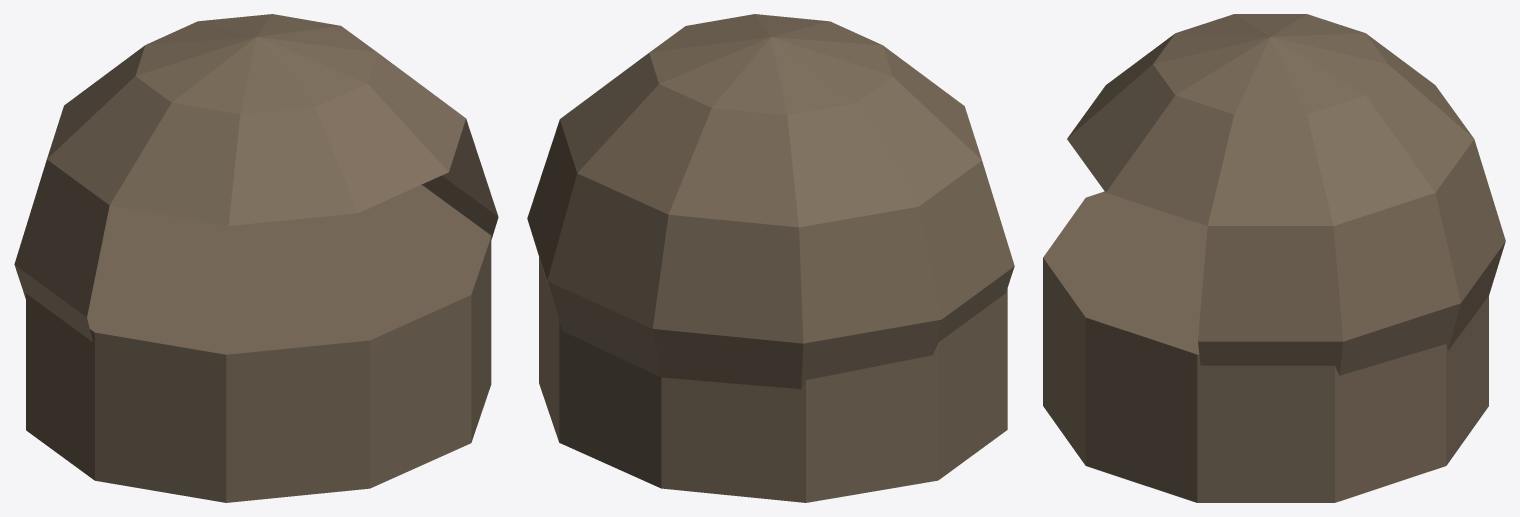
File: bob.glb
3 renders of one model, left to right at view 1: azimuth 30°, elevation 25°; view 2: azimuth 150°, elevation 25°; view 3: azimuth 270°, elevation 25°, orthographic.
Parts seen in each view (by area): view 1: bobring, cap; view 2: cap, bobring; view 3: cap, bobring.
Part boxes in pixels (left/top/right/bottom): bobring: left=26, top=185, right=491, bottom=502; cap: left=14, top=14, right=498, bottom=341; cap: left=527, top=14, right=1014, bottom=389; bobring: left=539, top=257, right=1007, bottom=502; cap: left=1067, top=14, right=1505, bottom=375; bobring: left=1043, top=191, right=1488, bottom=502.
Bounding box in the file's own units: 0.5231 × 0.4475 × 0.5085.
